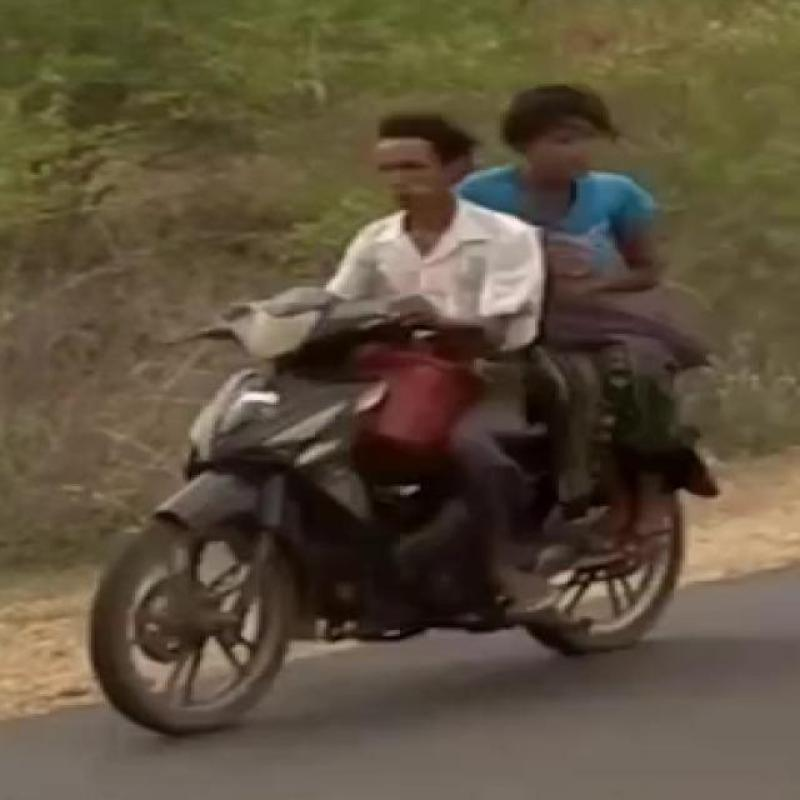nohelmet: (349, 87, 467, 201)
